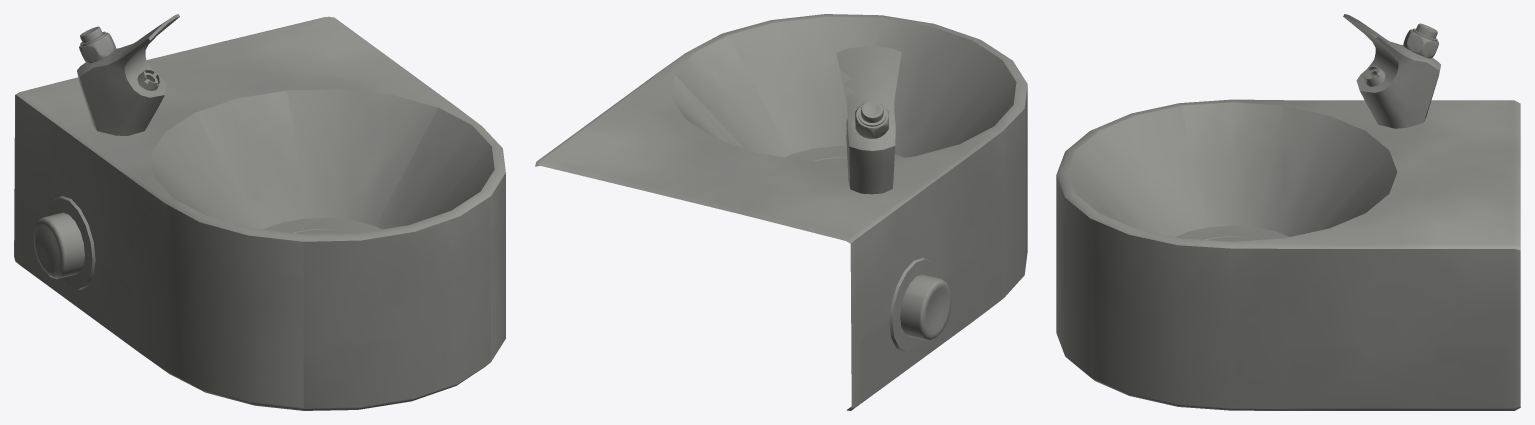
File: drinking_fountain.glb
3 renders of one model, left to right at view 1: azimuth 30°, elevation 25°; view 2: azimuth 150°, elevation 25°; view 3: azimuth 270°, elevation 25°, orthographic. The views are drawn at different scales.
Parts seen in each view (by area): view 1: drinking_fountain; view 2: drinking_fountain; view 3: drinking_fountain.
Boxes of the visible parts, bbox=[...] form: drinking_fountain: bbox=[14, 14, 505, 410]; drinking_fountain: bbox=[535, 14, 1027, 410]; drinking_fountain: bbox=[1056, 14, 1520, 410].
Size of the model in its own units: 0.3272 by 0.2626 by 0.3998.
Materials: 1 (1 with a texture image).
